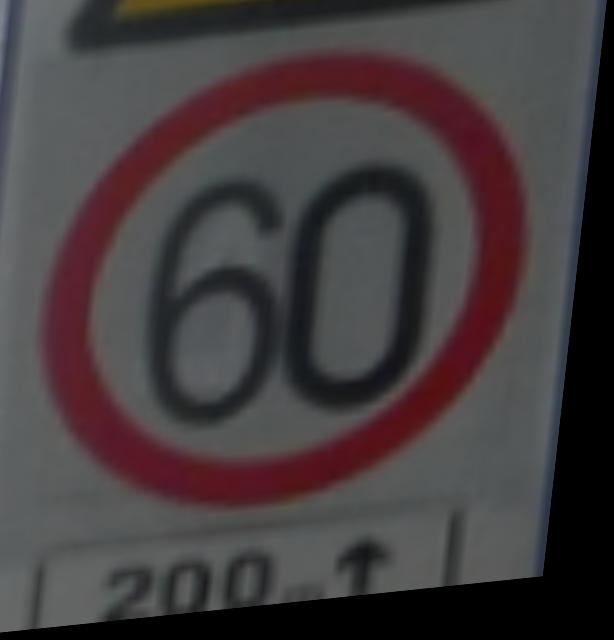limit60: (23, 28, 564, 542)
